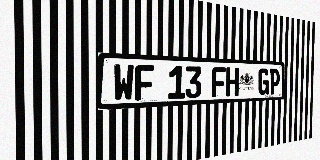1: (168, 66, 185, 99)
3: (185, 66, 201, 98)
F: (135, 65, 154, 101), (212, 67, 226, 97)
G: (258, 68, 269, 95)
H: (226, 67, 239, 97)
P: (269, 69, 280, 95)
W: (113, 64, 134, 102)
